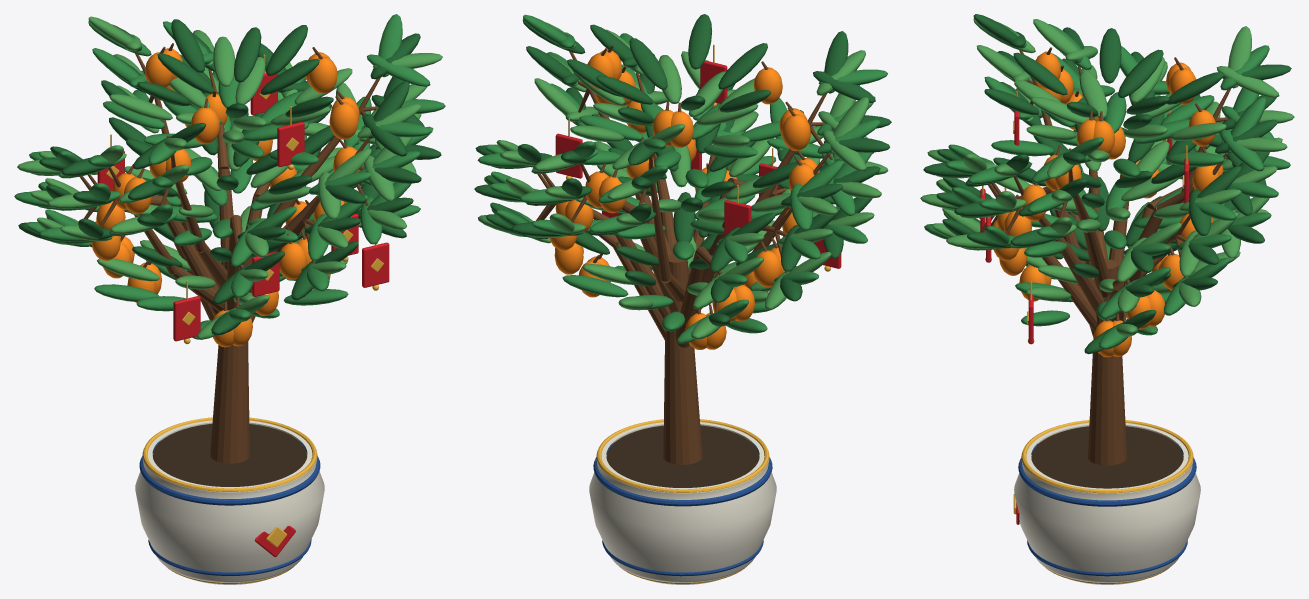
The model's file is chinese-new-year-kumquat-tree.glb.
The picture shows the model from 3 angles, left to right: view 1: azimuth 30°, elevation 25°; view 2: azimuth 150°, elevation 25°; view 3: azimuth 270°, elevation 25°; orthographic projection.
Parts seen in each view (by area): view 1: Export batch Deep evergreen leaves, Export batch Jade green leaves, Export batch Fresh green leaves, Export batch Ivory glazed porcelain, Export batch Warm brown branches, Export batch Kumquat orange, Export batch Dark potting soil, Export batch Vermilion red packet, Export batch Warm metallic gold, Export batch Cobalt blue glaze; view 2: Export batch Deep evergreen leaves, Export batch Fresh green leaves, Export batch Jade green leaves, Export batch Ivory glazed porcelain, Export batch Warm brown branches, Export batch Kumquat orange, Export batch Dark potting soil, Export batch Vermilion red packet, Export batch Cobalt blue glaze, Export batch Warm metallic gold; view 3: Export batch Fresh green leaves, Export batch Deep evergreen leaves, Export batch Jade green leaves, Export batch Ivory glazed porcelain, Export batch Warm brown branches, Export batch Kumquat orange, Export batch Dark potting soil, Export batch Cobalt blue glaze, Export batch Warm metallic gold, Export batch Vermilion red packet.
Part boxes in pixels (x1=…): Export batch Deep evergreen leaves: x1=18, y1=19, x2=441, y2=335; Export batch Jade green leaves: x1=14, y1=14, x2=445, y2=339; Export batch Fresh green leaves: x1=17, y1=16, x2=442, y2=339; Export batch Ivory glazed porcelain: x1=135, y1=420, x2=324, y2=584; Export batch Warm brown branches: x1=79, y1=43, x2=380, y2=463; Export batch Kumquat orange: x1=90, y1=48, x2=360, y2=347; Export batch Dark potting soil: x1=153, y1=423, x2=306, y2=486; Export batch Vermilion red packet: x1=97, y1=72, x2=389, y2=557; Export batch Warm metallic gold: x1=106, y1=54, x2=383, y2=583; Export batch Cobalt blue glaze: x1=139, y1=440, x2=320, y2=575; Export batch Deep evergreen leaves: x1=474, y1=14, x2=891, y2=326; Export batch Fresh green leaves: x1=478, y1=22, x2=888, y2=339; Export batch Jade green leaves: x1=477, y1=14, x2=887, y2=343; Export batch Ivory glazed porcelain: x1=589, y1=422, x2=776, y2=584; Export batch Warm brown branches: x1=533, y1=44, x2=832, y2=464; Export batch Kumquat orange: x1=549, y1=49, x2=819, y2=349; Export batch Dark potting soil: x1=606, y1=425, x2=759, y2=487; Export batch Vermilion red packet: x1=555, y1=60, x2=841, y2=268; Export batch Cobalt blue glaze: x1=593, y1=441, x2=772, y2=576; Export batch Warm metallic gold: x1=566, y1=44, x2=830, y2=583; Export batch Fresh green leaves: x1=920, y1=19, x2=1294, y2=336; Export batch Deep evergreen leaves: x1=923, y1=14, x2=1291, y2=354; Export batch Jade green leaves: x1=924, y1=21, x2=1290, y2=349; Export batch Ivory glazed porcelain: x1=1014, y1=423, x2=1200, y2=584; Export batch Warm brown branches: x1=980, y1=47, x2=1231, y2=465; Export batch Kumquat orange: x1=992, y1=52, x2=1223, y2=357; Export batch Dark potting soil: x1=1031, y1=426, x2=1183, y2=488; Export batch Cobalt blue glaze: x1=1018, y1=443, x2=1196, y2=576; Export batch Warm metallic gold: x1=979, y1=91, x2=1193, y2=583; Export batch Vermilion red packet: x1=980, y1=110, x2=1189, y2=524.
Size of the model in its own units: 1.54 by 1.95 by 1.32.
